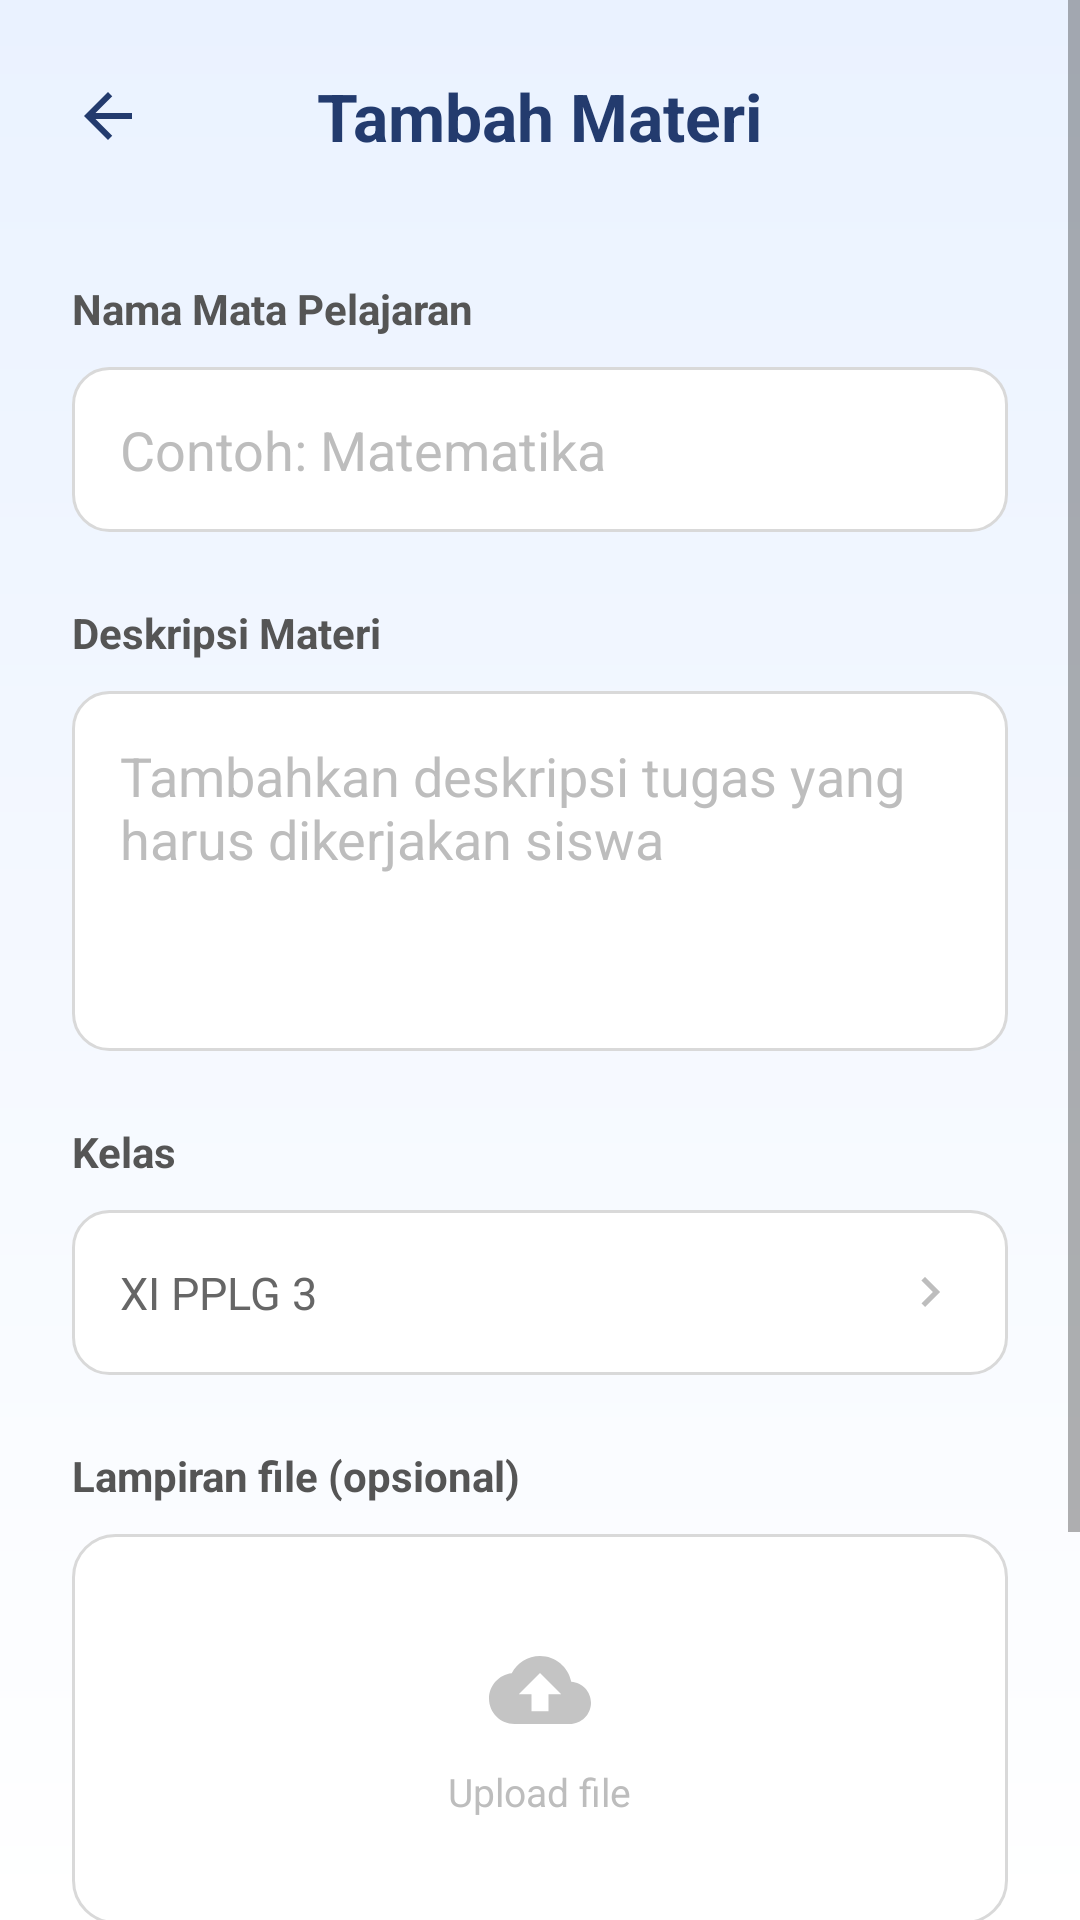

Where to tap for icons on this 1080x1920 app screen, as (x=x, y=y):
arrow back: (x=108, y=116)
arrow right: (x=930, y=1292)
